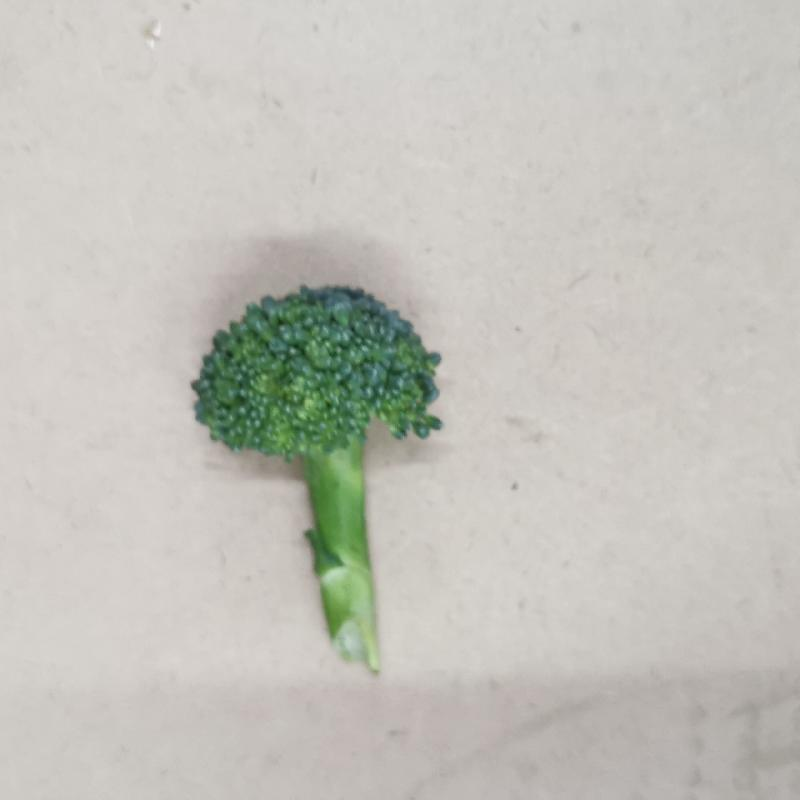broccoli: (189, 284, 452, 683)
